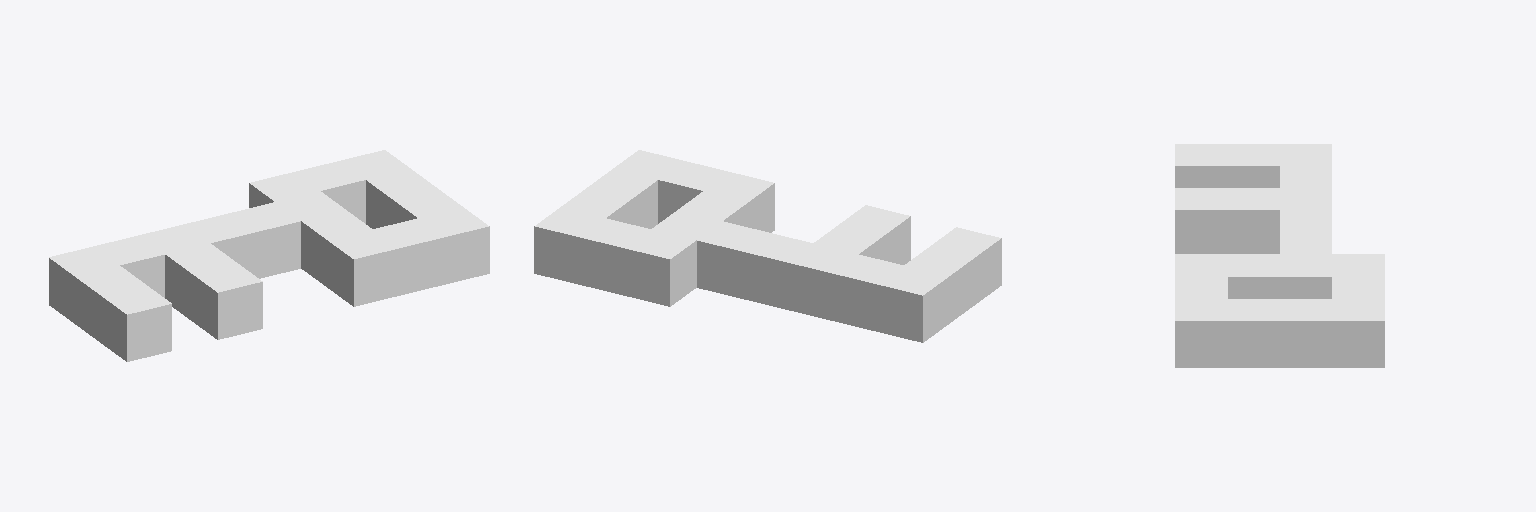
The model's file is Llave.obj.
The picture shows the model from 3 angles: view 1: azimuth 30°, elevation 25°; view 2: azimuth 150°, elevation 25°; view 3: azimuth 270°, elevation 25°; orthographic projection.
Visible parts, largest first — view 1: object 1; view 2: object 1; view 3: object 1.
Part boxes in pixels (left/top/right/bottom): object 1: left=49, top=150, right=489, bottom=361; object 1: left=534, top=150, right=1001, bottom=342; object 1: left=1175, top=144, right=1384, bottom=367.
Size of the model in its own units: 0.8 by 0.1 by 0.4.